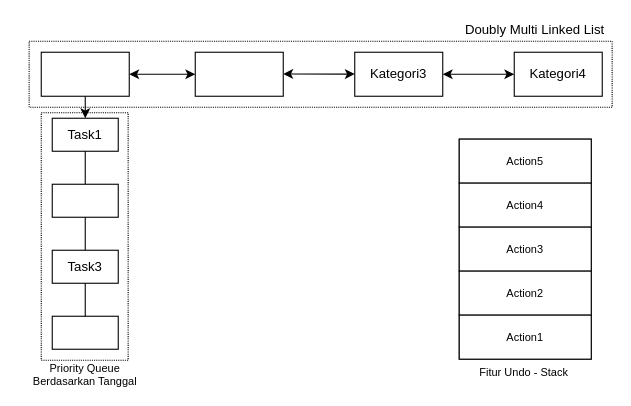
The diagram is 631 pixels wide and 406 high, and some of its shapes have lost their labels. The shapes that lost their labels are listed below. From the top down, each one's centre as x and y in pixels, then its label:
point (84, 73): Kategori1
point (238, 73): Kategori2
point (84, 200): Task2
point (84, 332): Task4
